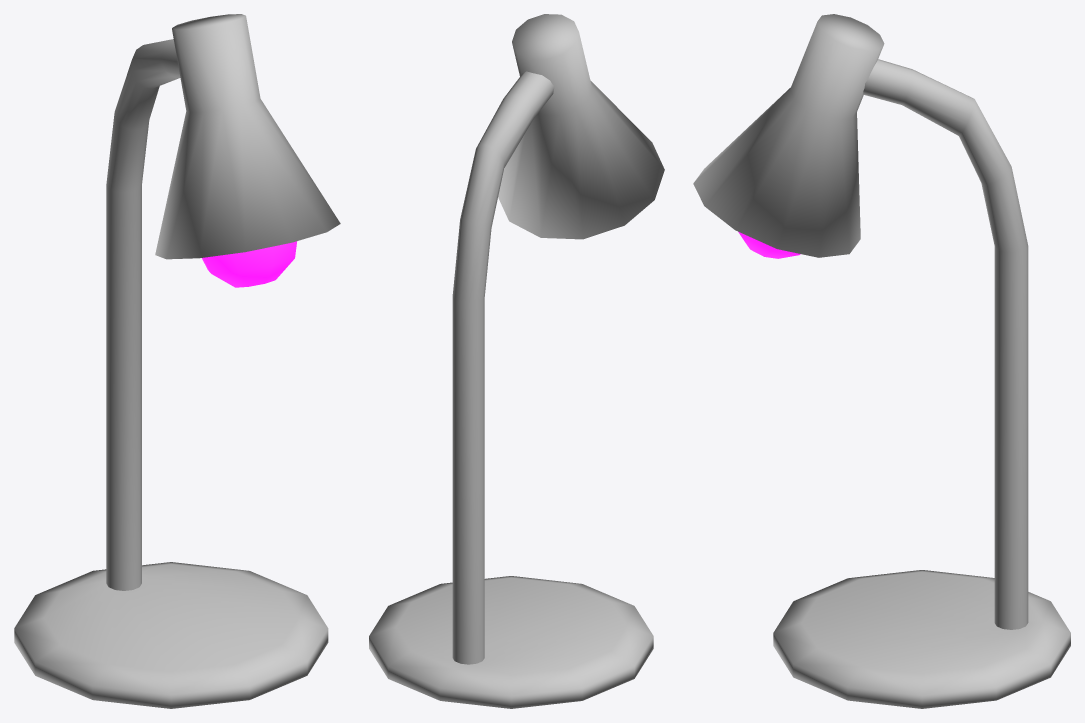
The model's file is lamp_wbulb_on.glb.
The picture shows the model from 3 angles, left to right: view 1: azimuth 30°, elevation 25°; view 2: azimuth 150°, elevation 25°; view 3: azimuth 270°, elevation 25°; orthographic projection. The views are drawn at different scales.
Parts seen in each view (by area): view 1: Lamp_wBulb_on; view 2: Lamp_wBulb_on; view 3: Lamp_wBulb_on.
Boxes of the visible parts, x1,y1,x2,y2 form: Lamp_wBulb_on: [14, 14, 340, 708]; Lamp_wBulb_on: [369, 14, 664, 708]; Lamp_wBulb_on: [693, 14, 1070, 708].
Bounding box in the file's own units: 0.32 × 0.7416 × 0.4064.
